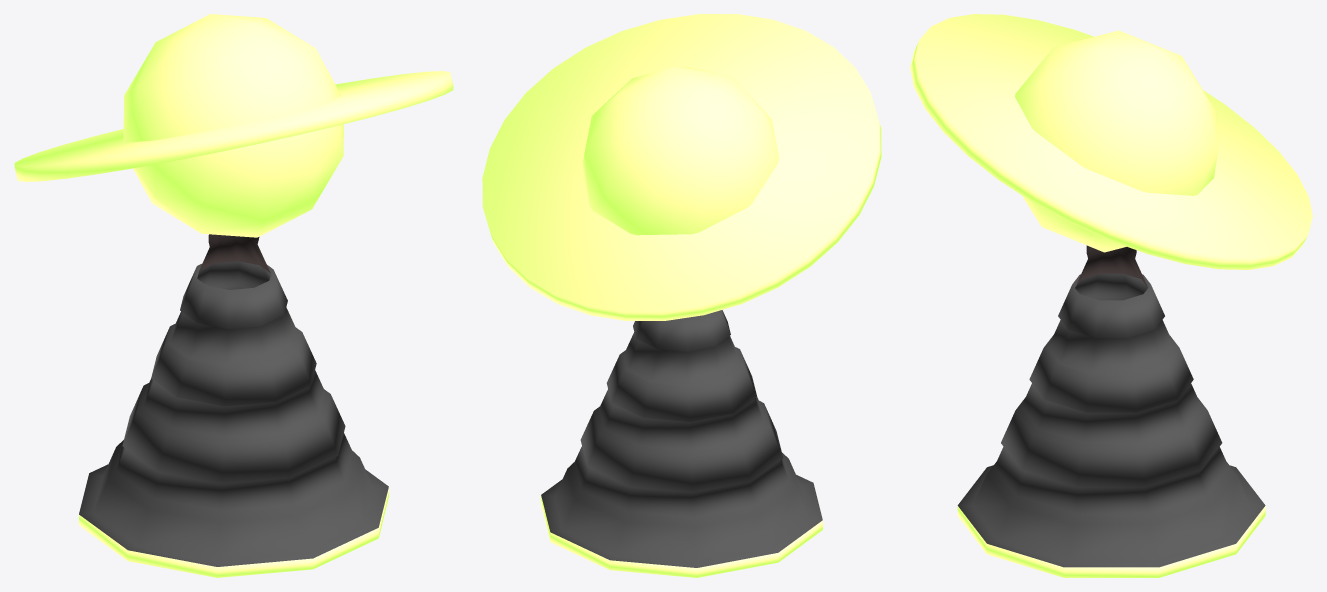
File: saturnlamp.glb
3 renders of one model, left to right at view 1: azimuth 30°, elevation 25°; view 2: azimuth 150°, elevation 25°; view 3: azimuth 270°, elevation 25°, orthographic. The views are drawn at different scales.
Parts seen in each view (by area): view 1: SaturnLamp; view 2: SaturnLamp; view 3: SaturnLamp.
Boxes of the visible parts, x1=… form: SaturnLamp: x1=14, y1=14, x2=453, y2=577; SaturnLamp: x1=482, y1=14, x2=881, y2=577; SaturnLamp: x1=910, y1=14, x2=1312, y2=577.
Bounding box in the file's own units: 0.953 × 1.15 × 0.8831.
